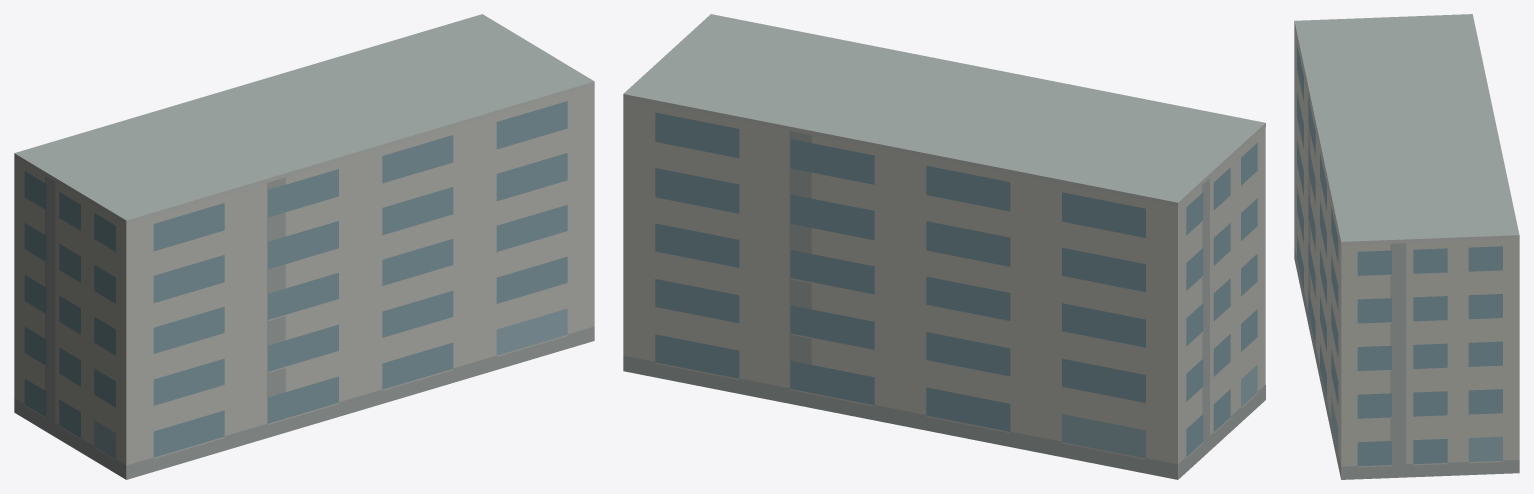
File: residential-d58fbdca-ad61-4308-b9ee-bc24fb415e38.glb
3 views of the same model, side by side, from view 1: azimuth 30°, elevation 25°; view 2: azimuth 150°, elevation 25°; view 3: azimuth 270°, elevation 25° (orthographic). The views are drawn at different scales.
Parts seen in each view (by area): view 1: residential-d58fbdca-ad61-4308-b9ee-bc24fb415e38.tmp; view 2: residential-d58fbdca-ad61-4308-b9ee-bc24fb415e38.tmp; view 3: residential-d58fbdca-ad61-4308-b9ee-bc24fb415e38.tmp.
Part boxes in pixels (box(x1,y1,x2,y2)): residential-d58fbdca-ad61-4308-b9ee-bc24fb415e38.tmp: box(14, 14, 594, 479); residential-d58fbdca-ad61-4308-b9ee-bc24fb415e38.tmp: box(623, 14, 1265, 479); residential-d58fbdca-ad61-4308-b9ee-bc24fb415e38.tmp: box(1294, 14, 1519, 479).
Size of the model in its own units: 31.32 by 15.25 by 13.08.
